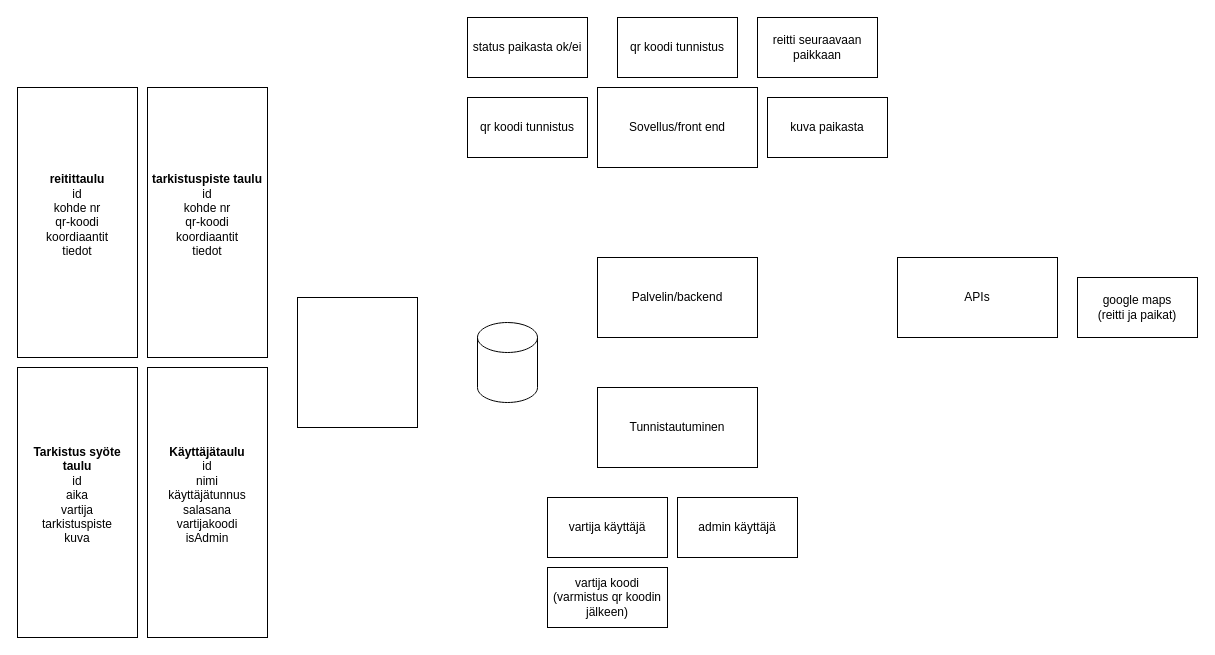
This 1215x655 diagram has some shape labels left out. The shapes that lost their labels are listed below. From the top down, each one's centre as x and y in pixels, then its label:
the point at 357,362: Taulut käyttäjät tarkistuspisteet reitit tarkistus syöte
the point at 507,362: noSql tietokanta
